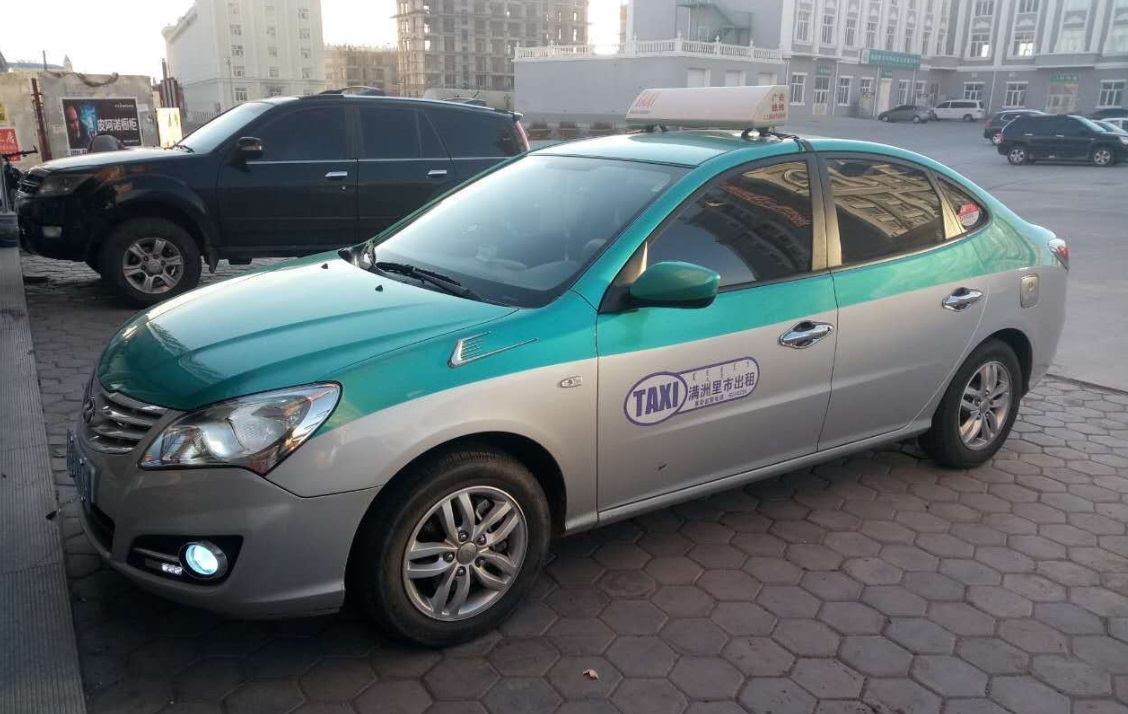taxi: (63, 81, 1072, 651)
